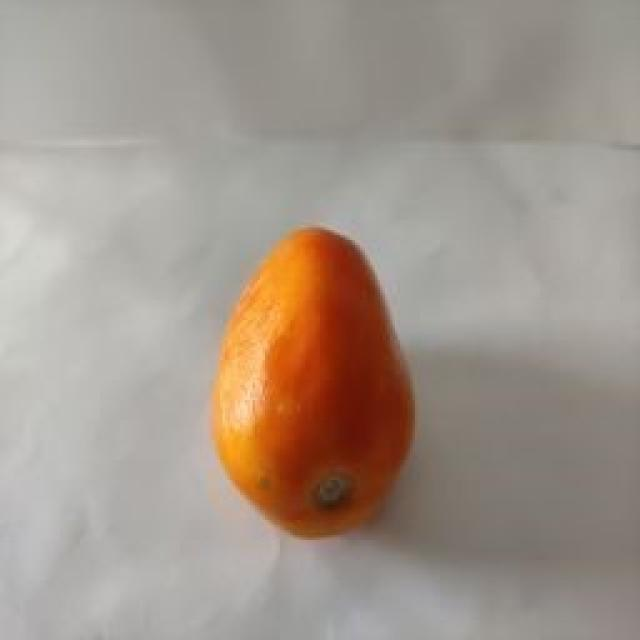Ripe: (211, 223, 416, 539)
